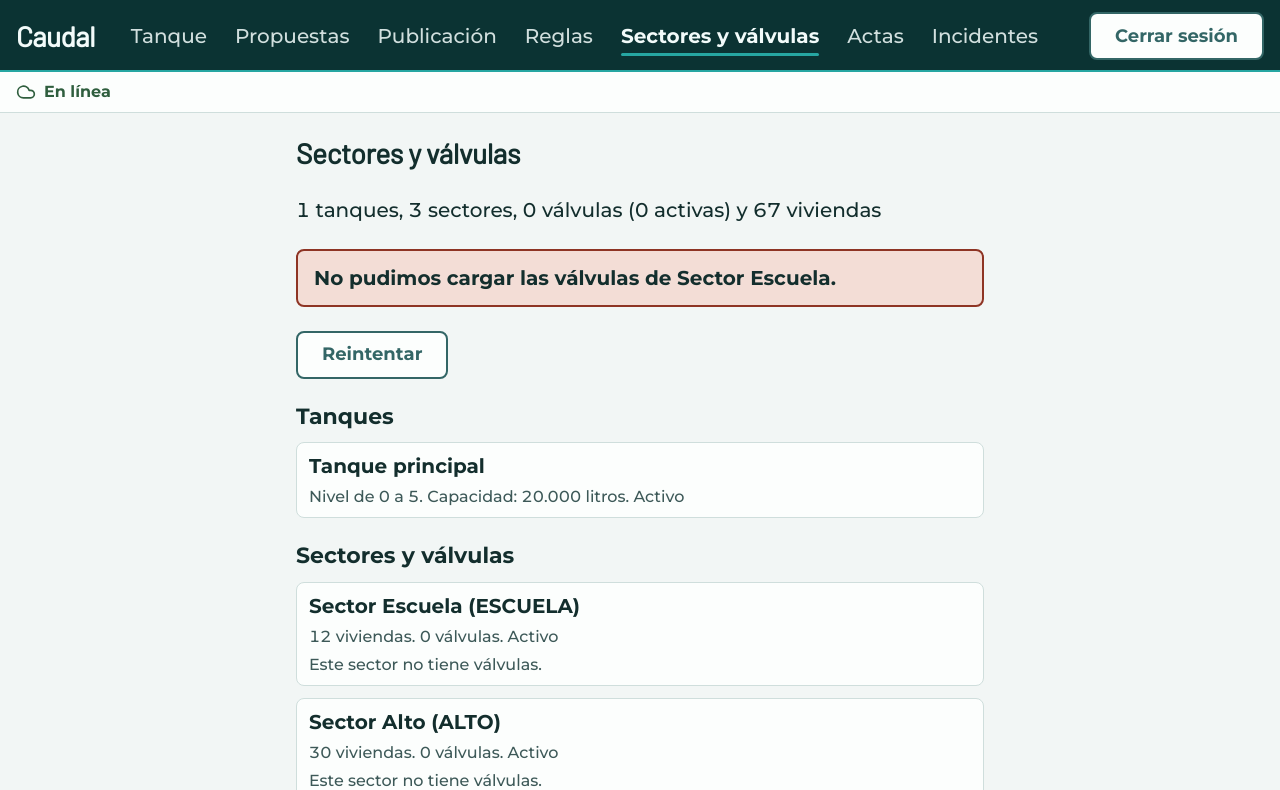
Scenario: NetworkPage › keeps drawing the network when one sector fails to load its valves, and can retry
Expected: the text "Sector Escuela (ESCUELA)" is shown, 309,594 -> 580,618
Click the button "Reintentar" at [372, 355], box 296,331 -> 448,379
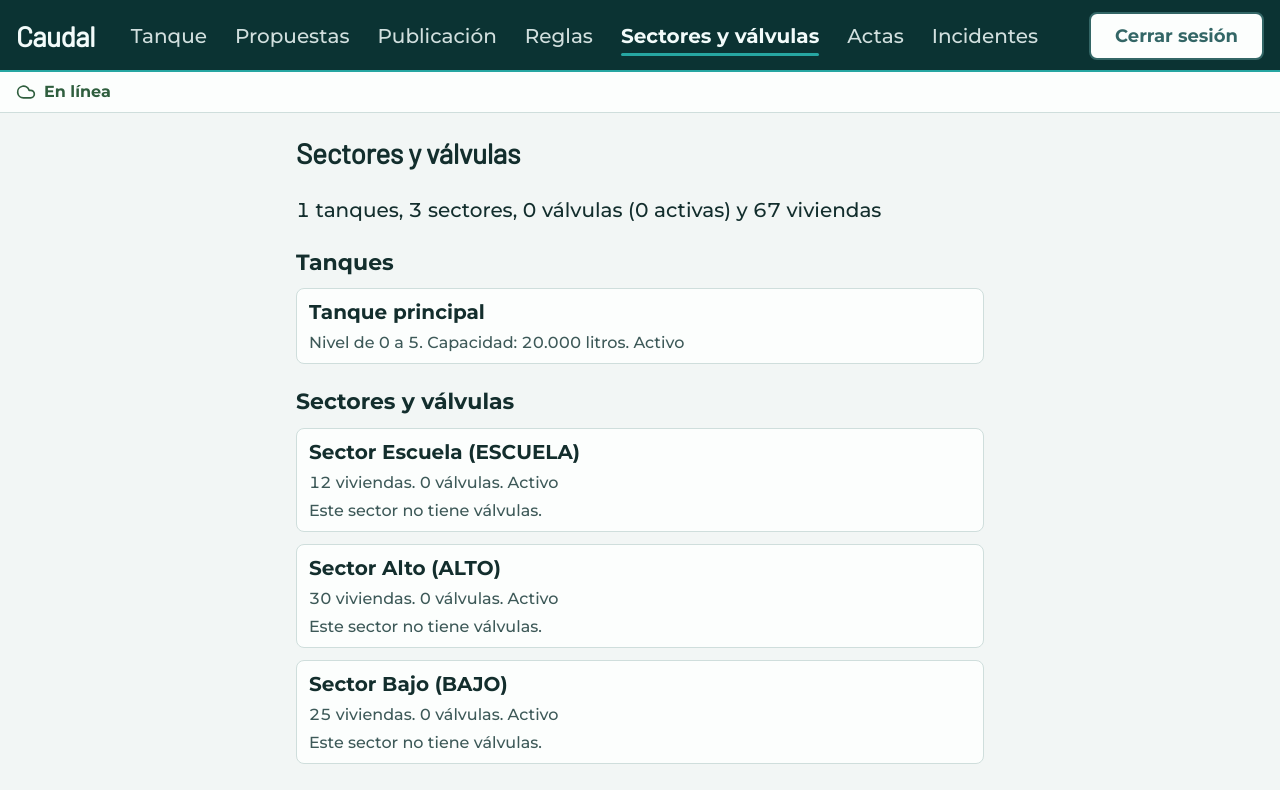
Now the message "No pudimos cargar las válvulas de Sector Escuela." is gone
